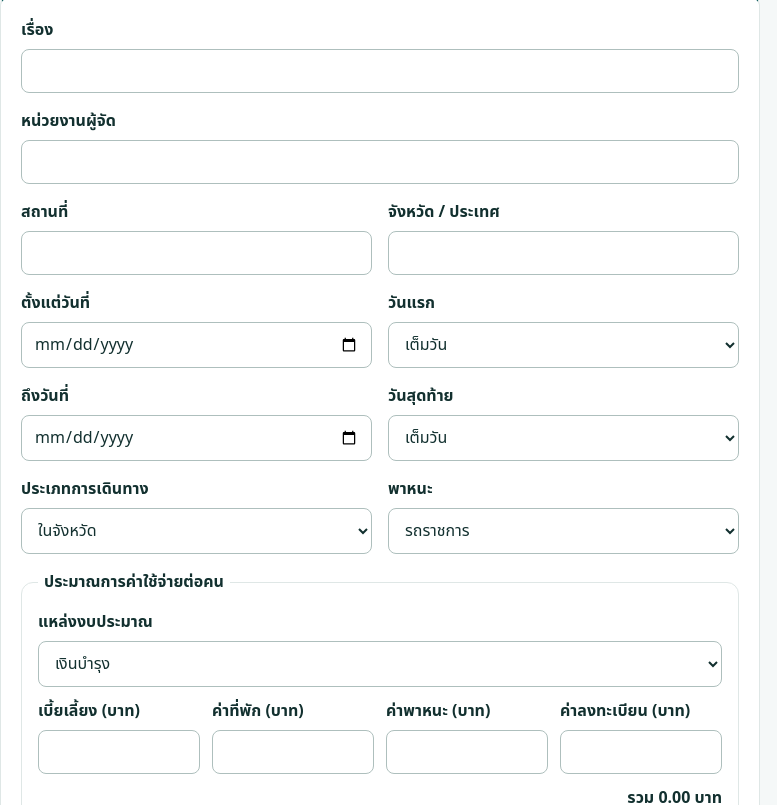
Test: TravelForm › names the person a rule failed for
In the field labelled "เรื่อง": (380, 71) top-left (21, 49), bottom-right (739, 93), type "ประชุมวิชาการ"
In the field labelled "หน่วยงานผู้จัด": (380, 162) top-left (21, 140), bottom-right (739, 184), type "สสจ.มหาสารคาม"
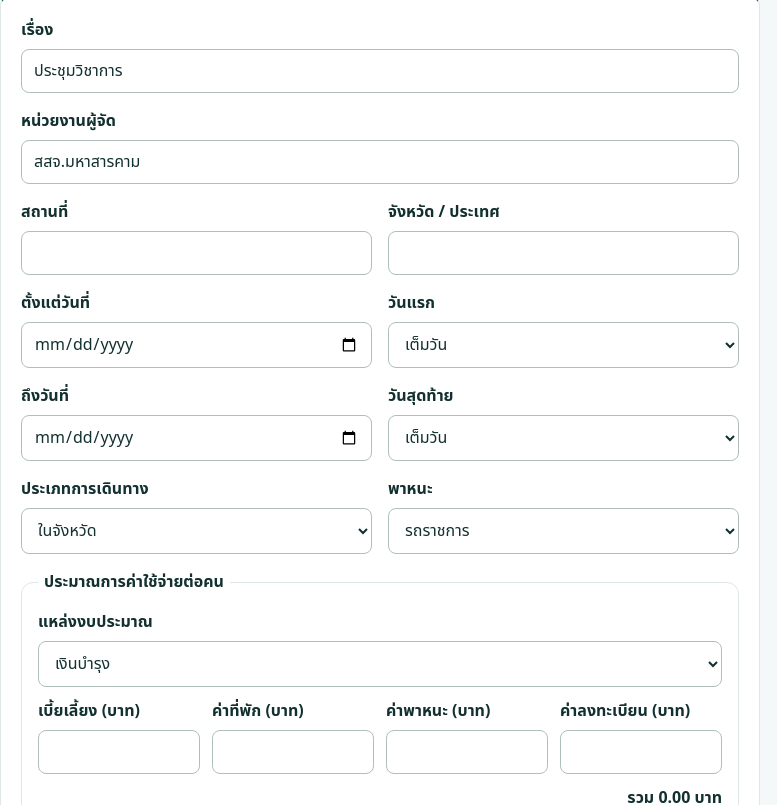
In the field labelled "สถานที่": (196, 253) top-left (21, 231), bottom-right (372, 275), type "ศาลากลาง"
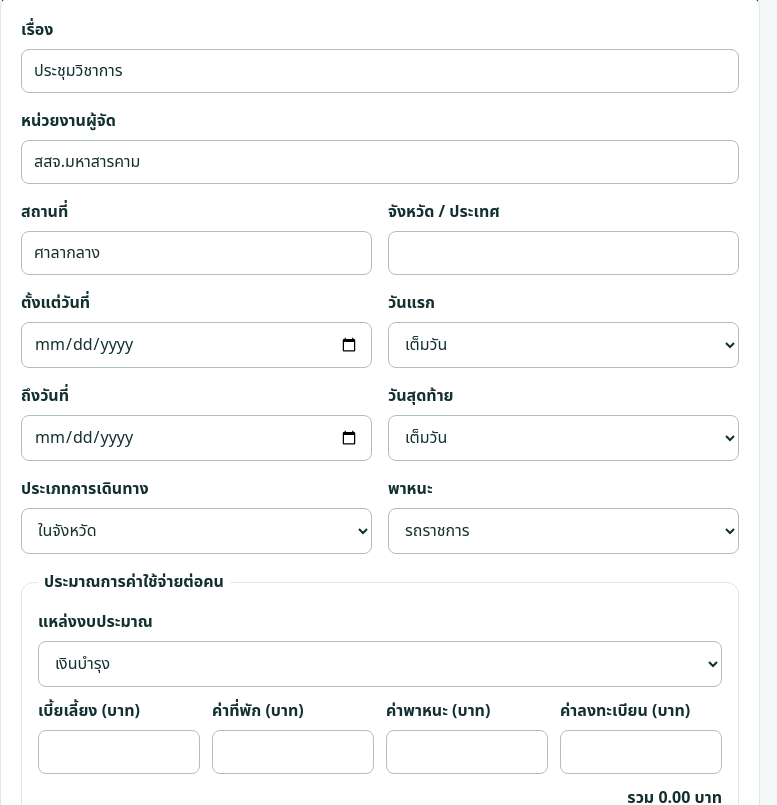
In the field labelled "จังหวัด / ประเทศ": (564, 253) top-left (388, 231), bottom-right (739, 275), type "มหาสารคาม"
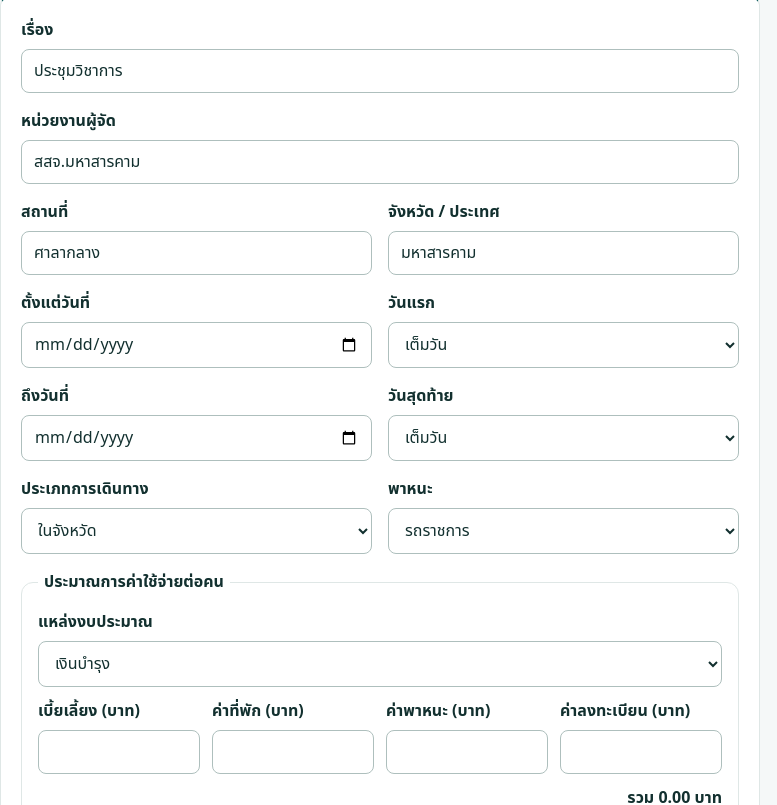
In the date field labelled "ตั้งแต่วันที่": (196, 345) top-left (21, 322), bottom-right (372, 368), type "2026-11-10"
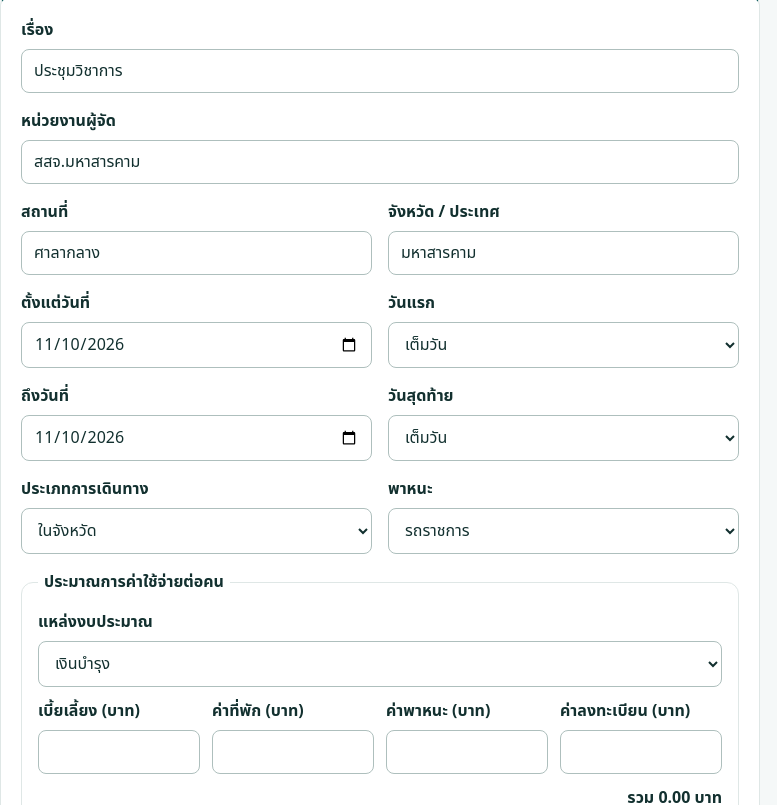
In the date field labelled "ถึงวันที่": (196, 438) top-left (21, 415), bottom-right (372, 461), type "2026-11-11"
(page scrolled)
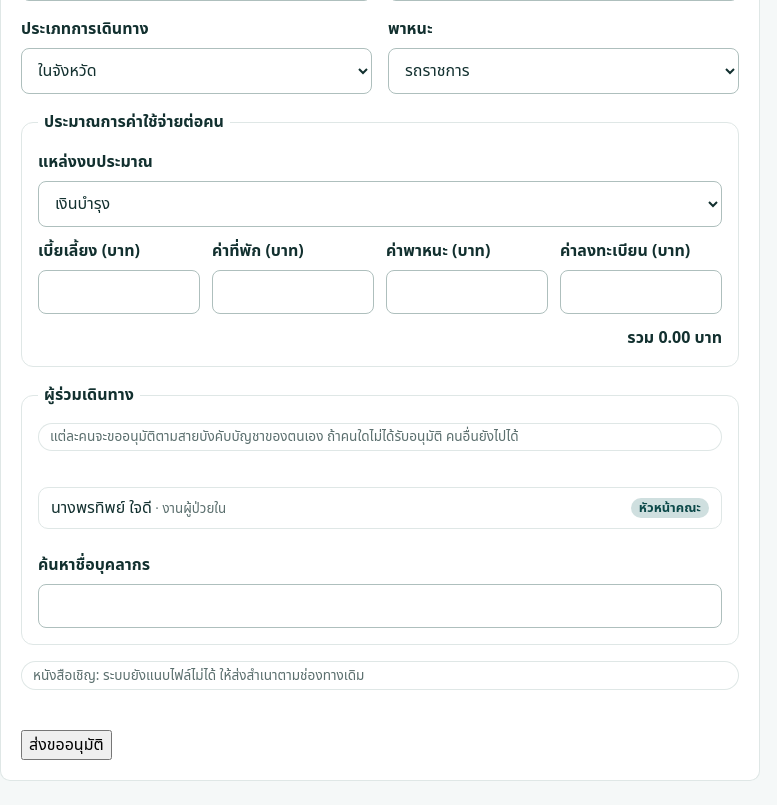
Click the button "ส่งขออนุมัติ": click(66, 745) top-left (21, 730), bottom-right (112, 760)
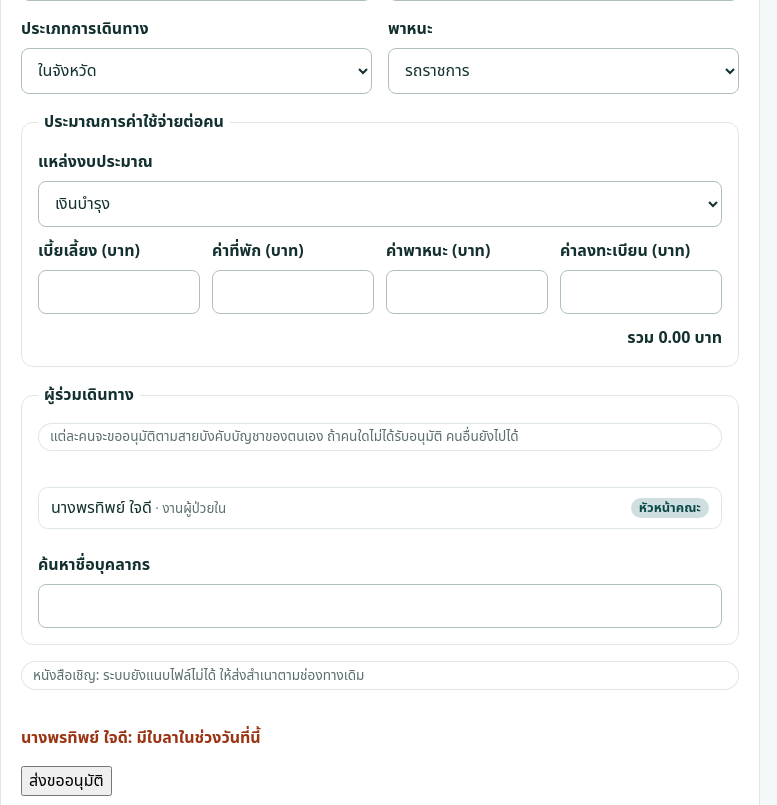
expect the message reads "นางพรทิพย์ ใจดี: มีใบลาในช่วงวันที่นี้": met, box top-left (21, 726), bottom-right (261, 750)
